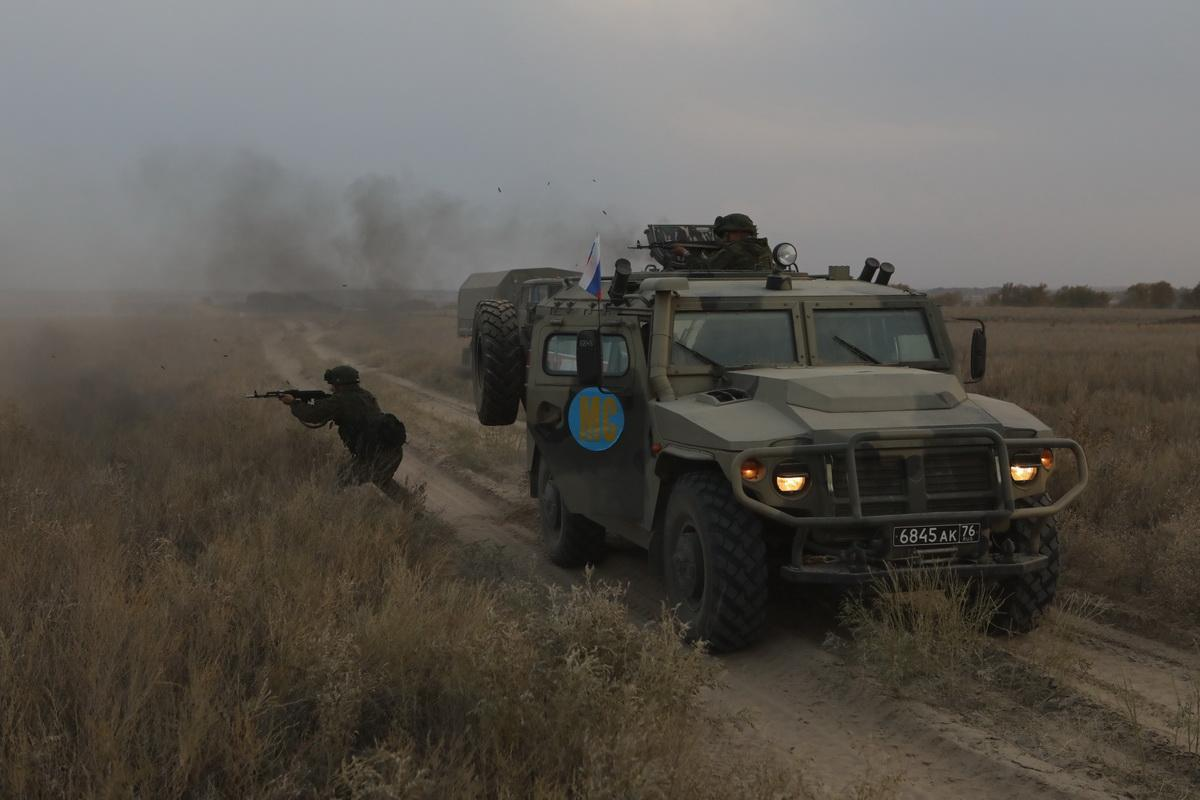armored_car: (473, 223, 1092, 657)
truck: (457, 266, 585, 380)
